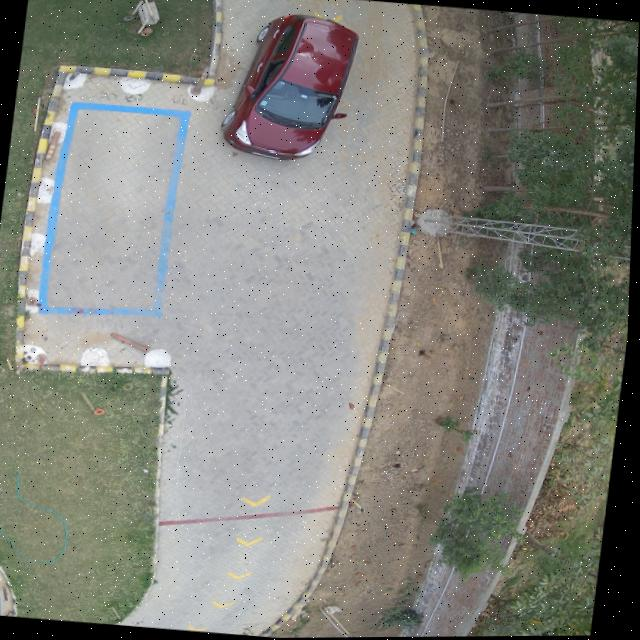car: (223, 14, 357, 160)
